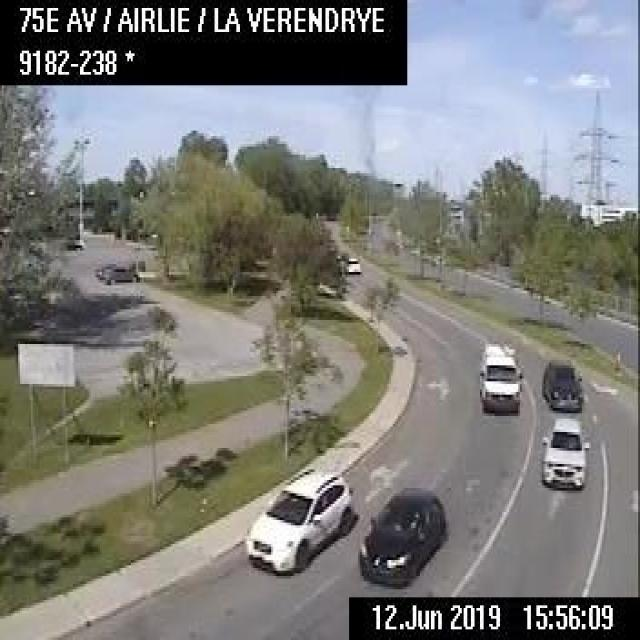vehicle: (243, 461, 354, 576), (357, 483, 448, 584), (536, 412, 591, 490), (474, 336, 522, 416), (538, 357, 584, 411), (102, 262, 137, 283), (344, 251, 361, 274)
